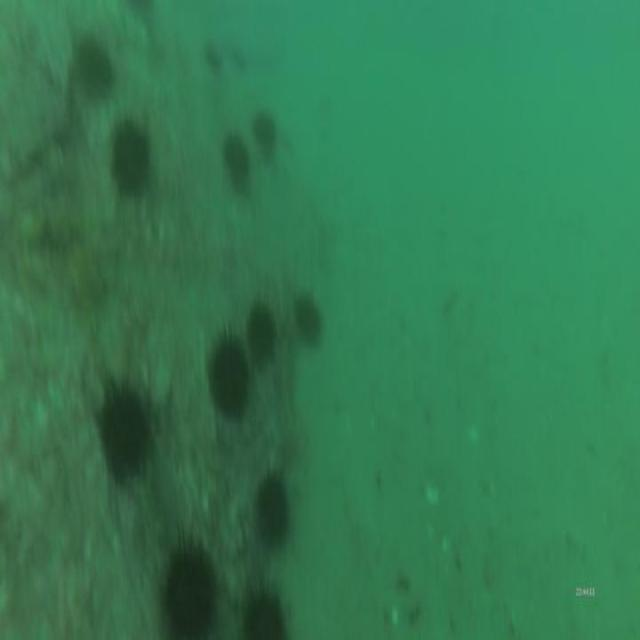echinus: (155, 529, 222, 640), (90, 374, 154, 488), (202, 326, 253, 428), (106, 112, 154, 202), (68, 23, 116, 108), (235, 575, 296, 640), (252, 466, 294, 556), (241, 296, 281, 374), (291, 284, 328, 352), (220, 125, 254, 193), (246, 102, 280, 168), (199, 34, 226, 80)
